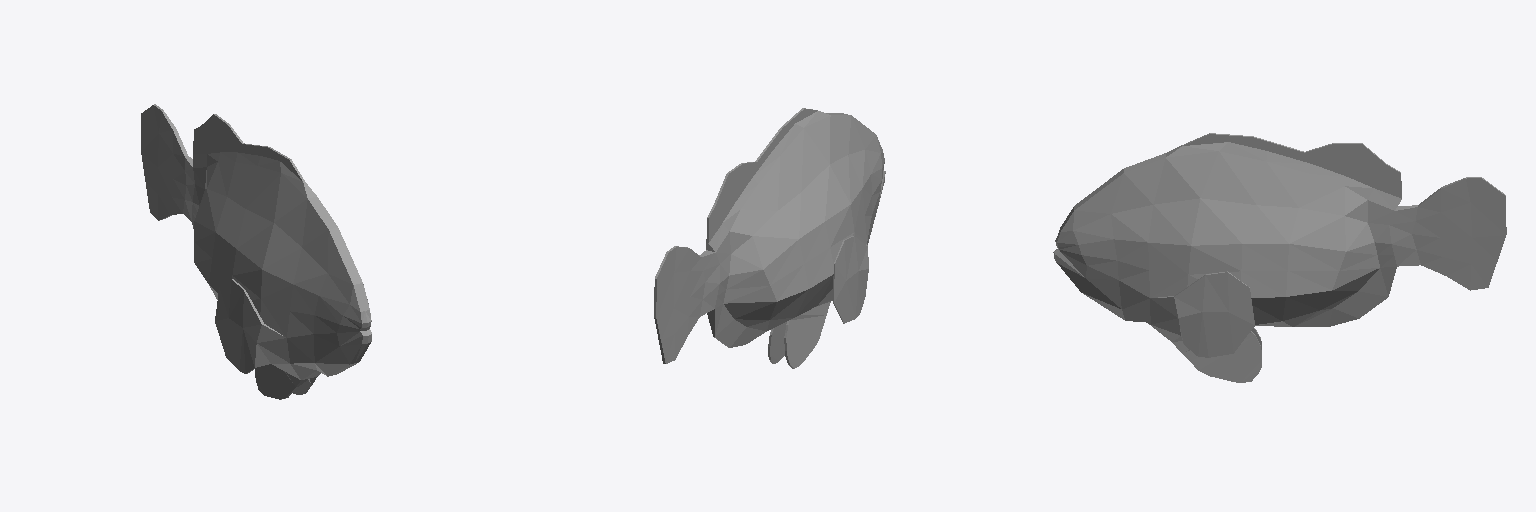
File: TropicalFish11.obj
The picture shows the model from 3 angles: view 1: azimuth 30°, elevation 25°; view 2: azimuth 150°, elevation 25°; view 3: azimuth 270°, elevation 25°; orthographic projection.
Parts seen in each view (by area): view 1: TropicalFish11; view 2: TropicalFish11; view 3: TropicalFish11.
Part boxes in pixels (bbox=[...]): TropicalFish11: bbox=[141, 104, 371, 399]; TropicalFish11: bbox=[654, 108, 885, 368]; TropicalFish11: bbox=[1053, 133, 1506, 382].
Bounding box in the file's own units: 135 × 293 × 493.